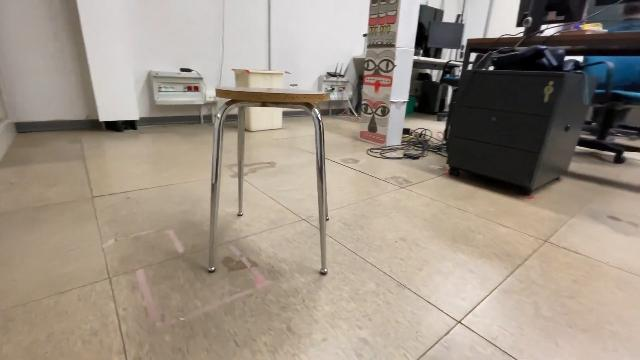Stool: (203, 84, 334, 282)
